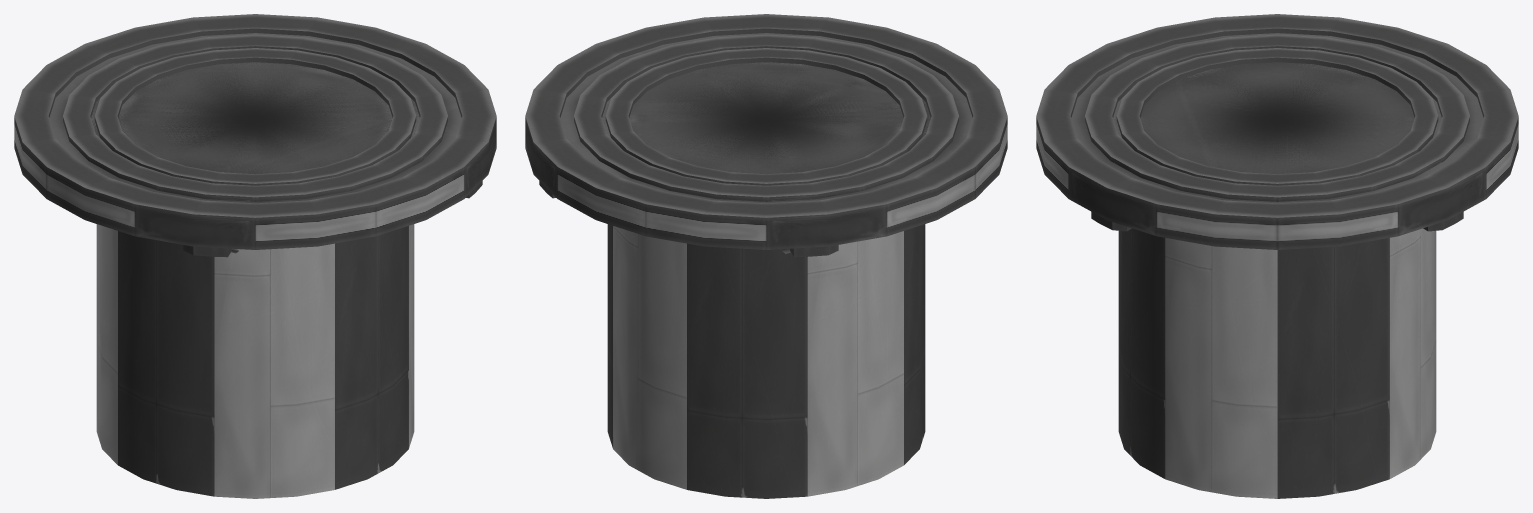
File: LR87_SingleChamberB.dae
3 views of the same model, side by side, from view 1: azimuth 30°, elevation 25°; view 2: azimuth 150°, elevation 25°; view 3: azimuth 270°, elevation 25° (orthographic).
Visible parts, largest first — view 1: fairing, BareEngine_Store4, LR87_AZ50_Mount15m, LR87_AZ50_Mount125m2; view 2: fairing, BareEngine_Store4, LR87_AZ50_Mount15m, LR87_AZ50_Mount125m2; view 3: fairing, BareEngine_Store4, LR87_AZ50_Mount15m, LR87_AZ50_Mount125m2.
Boxes of the visible parts, left/top/right/bottom form: fairing: left=96, top=224, right=414, bottom=498; BareEngine_Store4: left=14, top=14, right=496, bottom=257; LR87_AZ50_Mount15m: left=63, top=34, right=447, bottom=201; LR87_AZ50_Mount125m2: left=94, top=48, right=416, bottom=185; fairing: left=607, top=224, right=925, bottom=498; BareEngine_Store4: left=525, top=14, right=1007, bottom=257; LR87_AZ50_Mount15m: left=574, top=34, right=958, bottom=201; LR87_AZ50_Mount125m2: left=605, top=48, right=927, bottom=185; fairing: left=1118, top=228, right=1436, bottom=498; BareEngine_Store4: left=1036, top=14, right=1518, bottom=249; LR87_AZ50_Mount15m: left=1085, top=34, right=1469, bottom=201; LR87_AZ50_Mount125m2: left=1116, top=48, right=1438, bottom=185.
Size of the model in its own units: 1.88 by 1.37 by 1.88.
